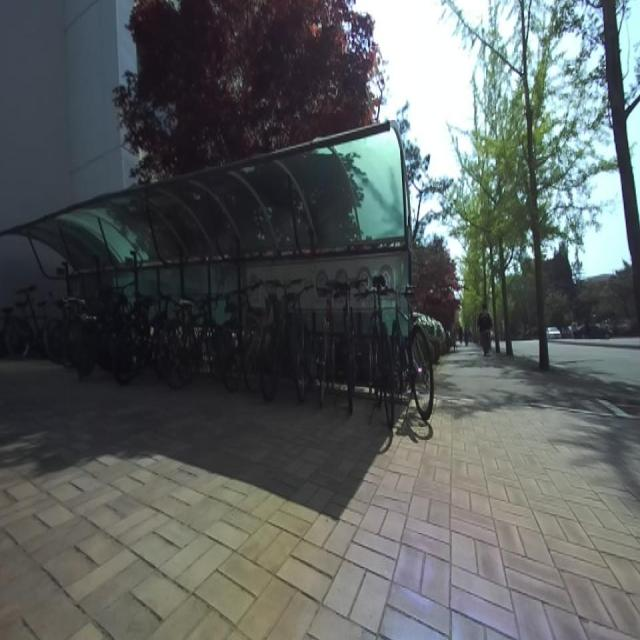sidewalk: (306, 345, 640, 640)
